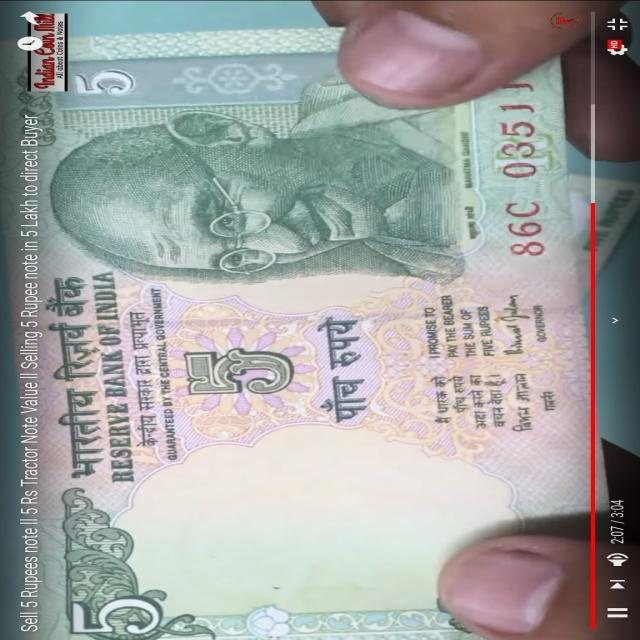5IndianRupees: (6, 28, 554, 640)
